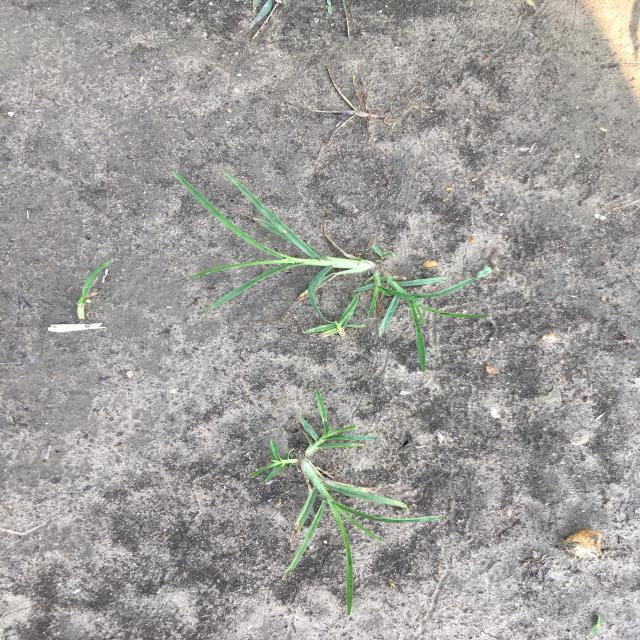Goosegrass: (170, 165, 492, 374), (246, 386, 448, 618)
